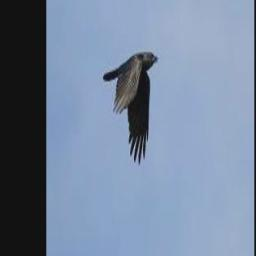Crow: (103, 52, 158, 165)
